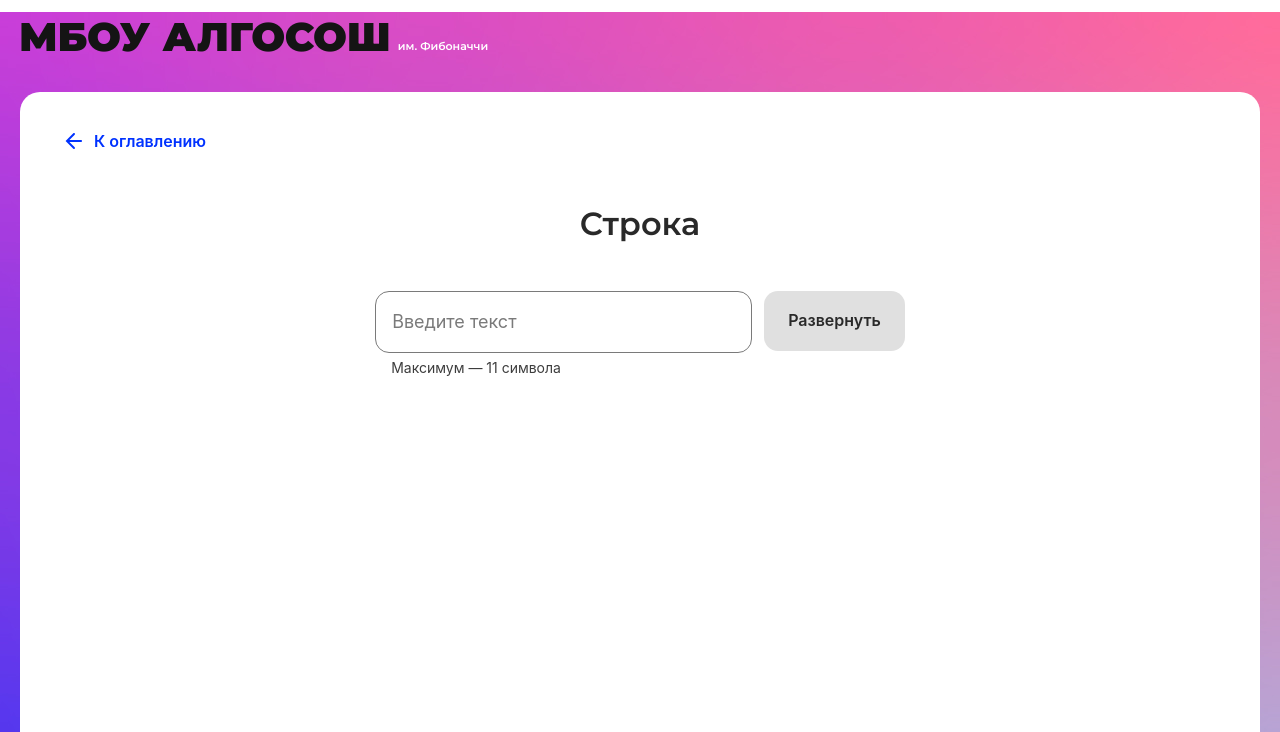
Корректная работа страницы с разворотом строки › строка разворачивается корректно
Type "12345" into the field with placeholder "Введите текст" at point(564, 322), box x1=375 y1=291 x2=752 y2=353
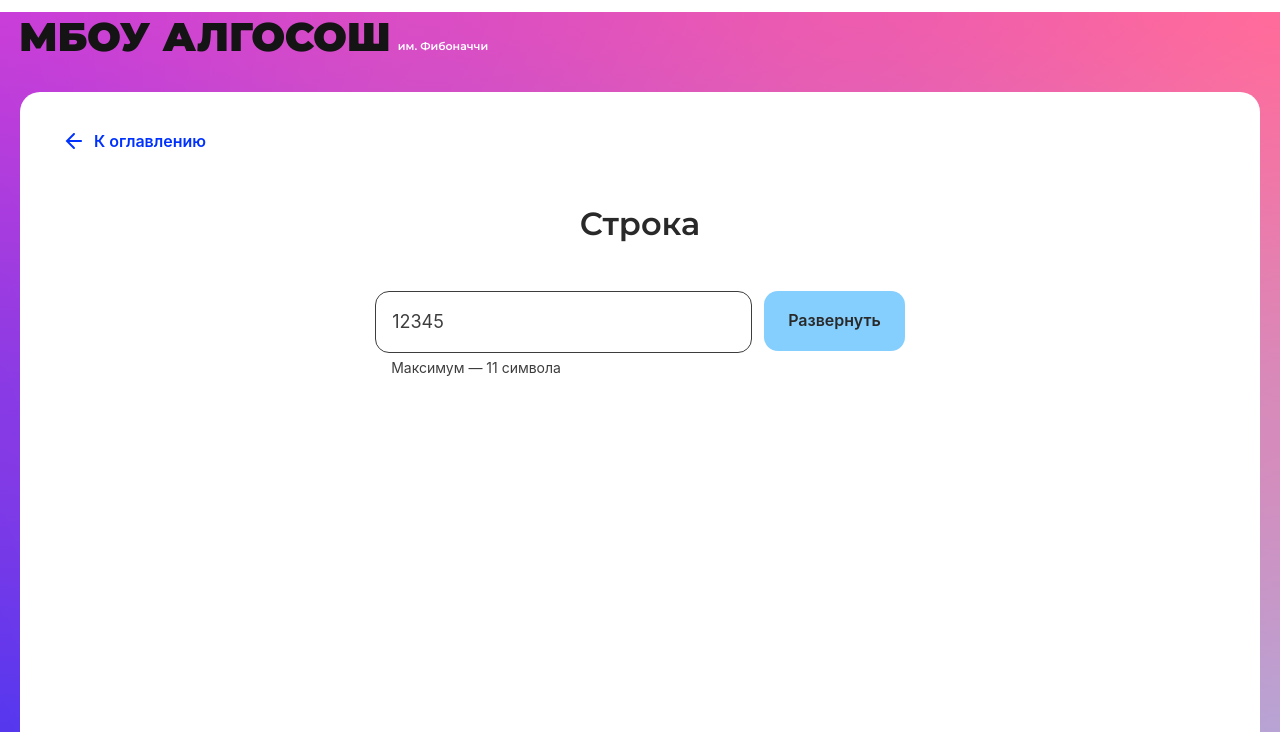
Click the submit button at point(835, 321), box x1=764 y1=291 x2=905 y2=351
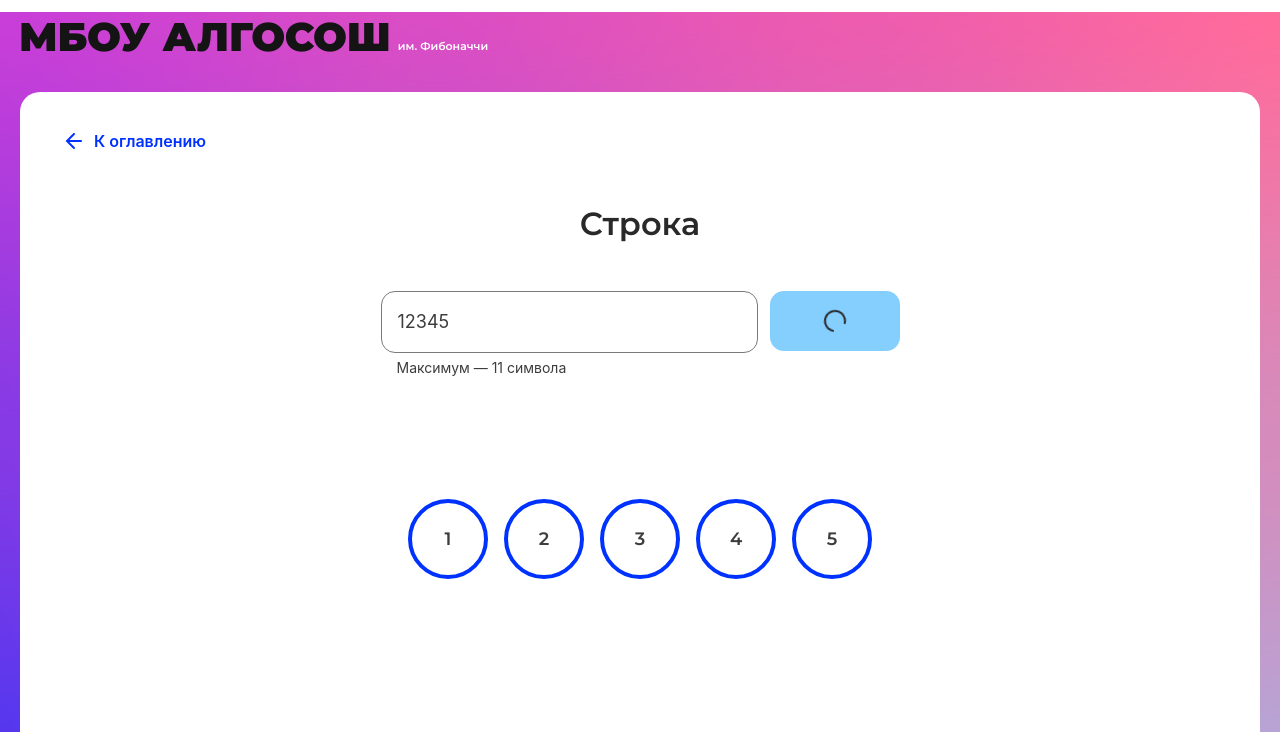
Expected: the text "1" is shown, x1=445 y1=528 x2=452 y2=550
Expected: the text "2" is shown, x1=539 y1=528 x2=549 y2=550
Expected: the text "3" is shown, x1=635 y1=528 x2=645 y2=550
Wait "1000"
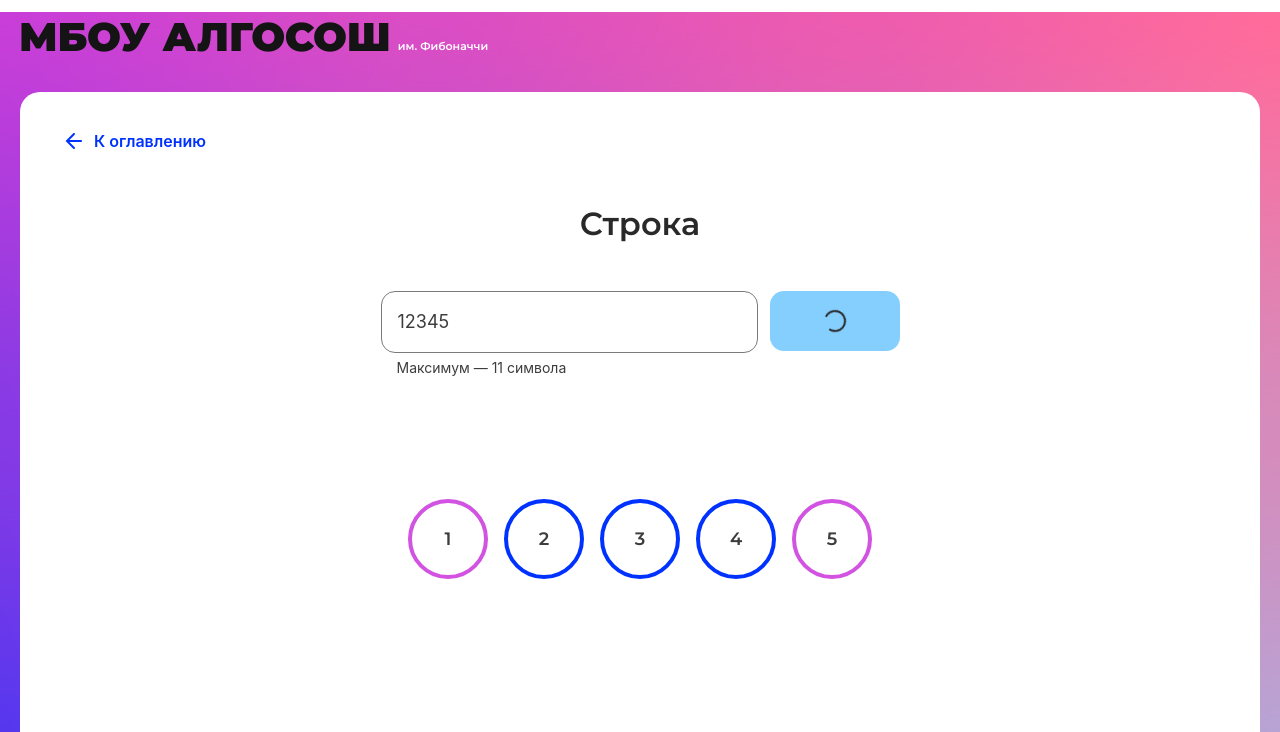
Expected: the text "1" is shown, x1=445 y1=528 x2=452 y2=550
Expected: the text "2" is shown, x1=539 y1=528 x2=549 y2=550
Expected: the text "3" is shown, x1=635 y1=528 x2=645 y2=550
Wait "1000"
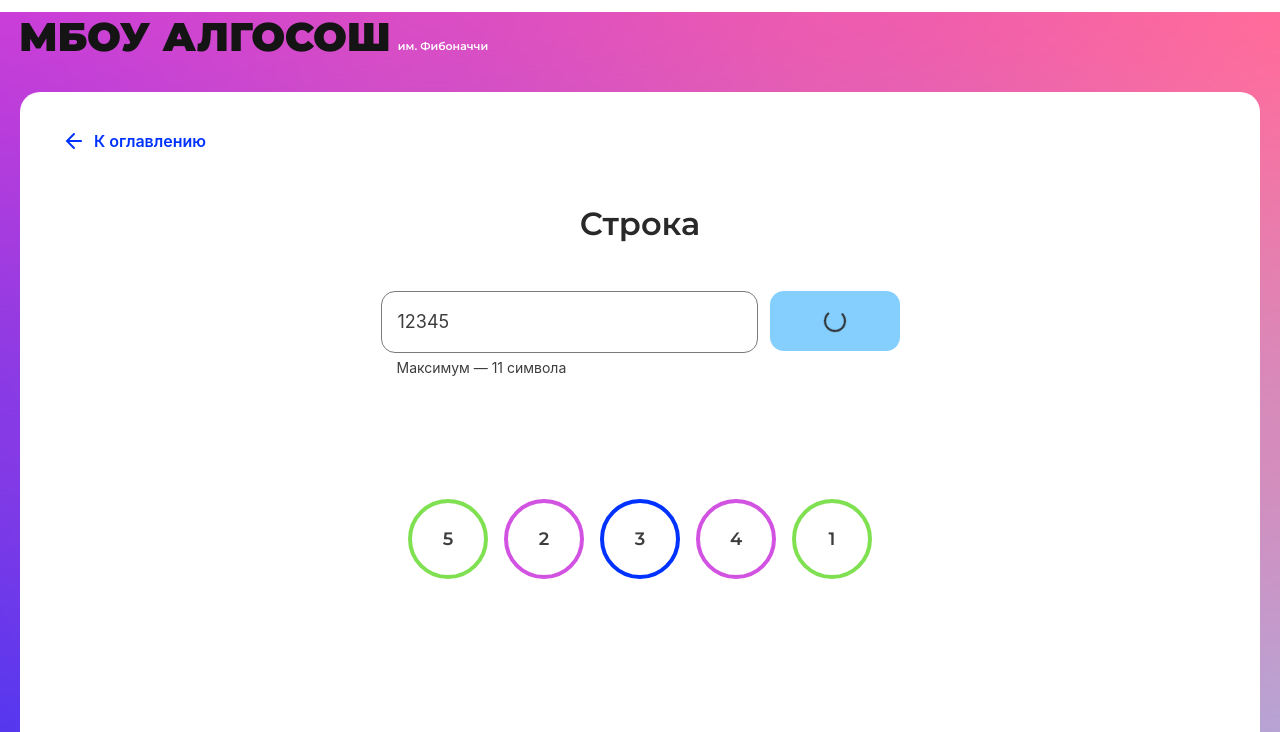
Expected: the text "2" is shown, x1=539 y1=528 x2=549 y2=550
Expected: the text "3" is shown, x1=635 y1=528 x2=645 y2=550
Expected: the text "5" is shown, x1=443 y1=528 x2=453 y2=550
Wait "1000"
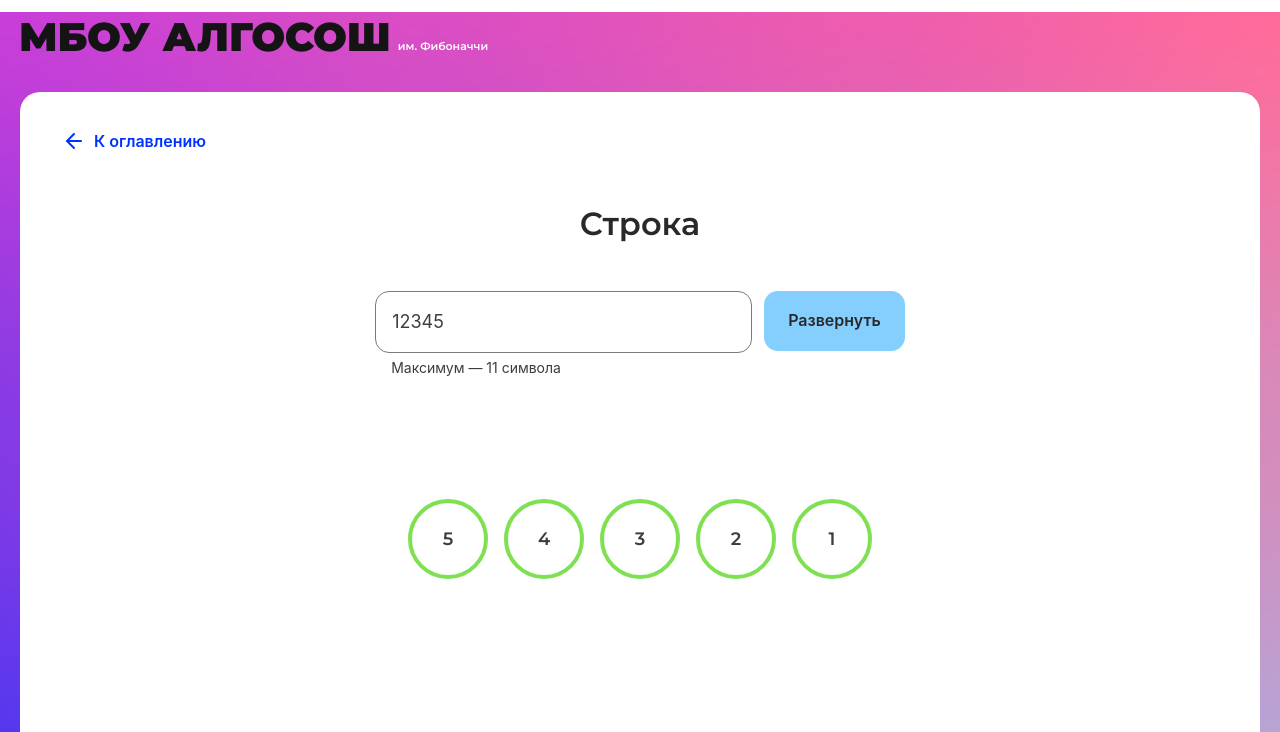
Expected: the text "5" is shown, x1=443 y1=528 x2=453 y2=550
Expected: the text "3" is shown, x1=635 y1=528 x2=645 y2=550
Expected: the text "4" is shown, x1=538 y1=528 x2=550 y2=550
